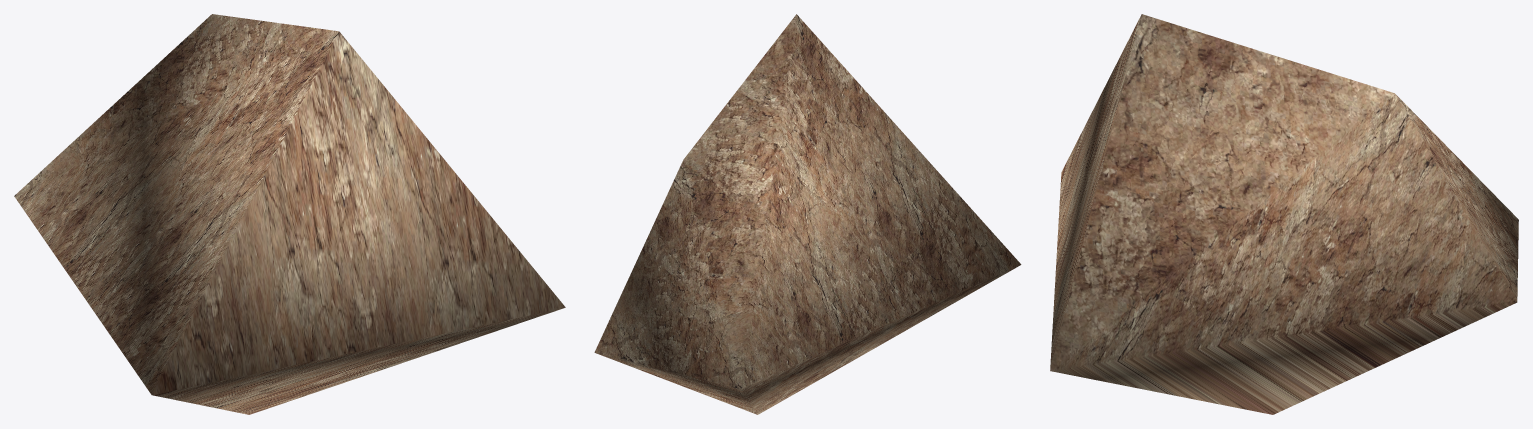
Rendered from rock_tatt_boulder_tan_l5.fbx.
The picture shows the model from 3 angles, left to right: view 1: azimuth 30°, elevation 25°; view 2: azimuth 150°, elevation 25°; view 3: azimuth 270°, elevation 25°; orthographic projection. The views are drawn at different scales.
Parts seen in each view (by area): view 1: mesh_node; view 2: mesh_node; view 3: mesh_node.
Part boxes in pixels (<box>): mesh_node: <box>14,14,565,414</box>; mesh_node: <box>594,14,1021,414</box>; mesh_node: <box>1050,14,1518,414</box>.
Size of the model in its own units: 5.63 by 5.65 by 5.83.
